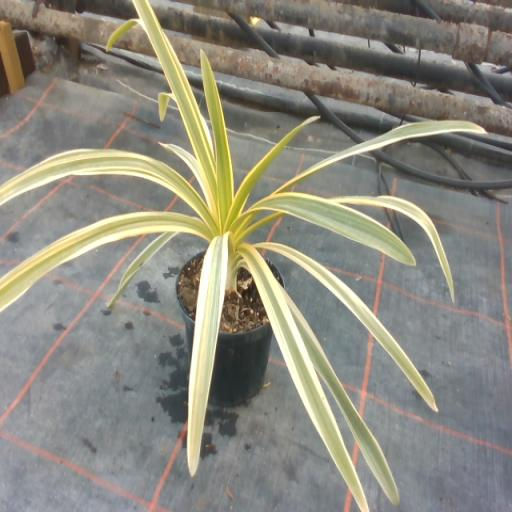Agapanthus-praecox: (242, 244, 367, 511), (259, 243, 436, 410), (283, 289, 397, 497), (0, 213, 209, 310), (133, 0, 218, 220), (276, 121, 486, 192), (332, 195, 454, 300), (247, 193, 414, 263), (187, 235, 228, 475), (228, 116, 318, 220), (202, 52, 233, 227), (107, 233, 177, 306), (161, 143, 203, 187), (106, 19, 141, 50), (158, 93, 175, 121)
